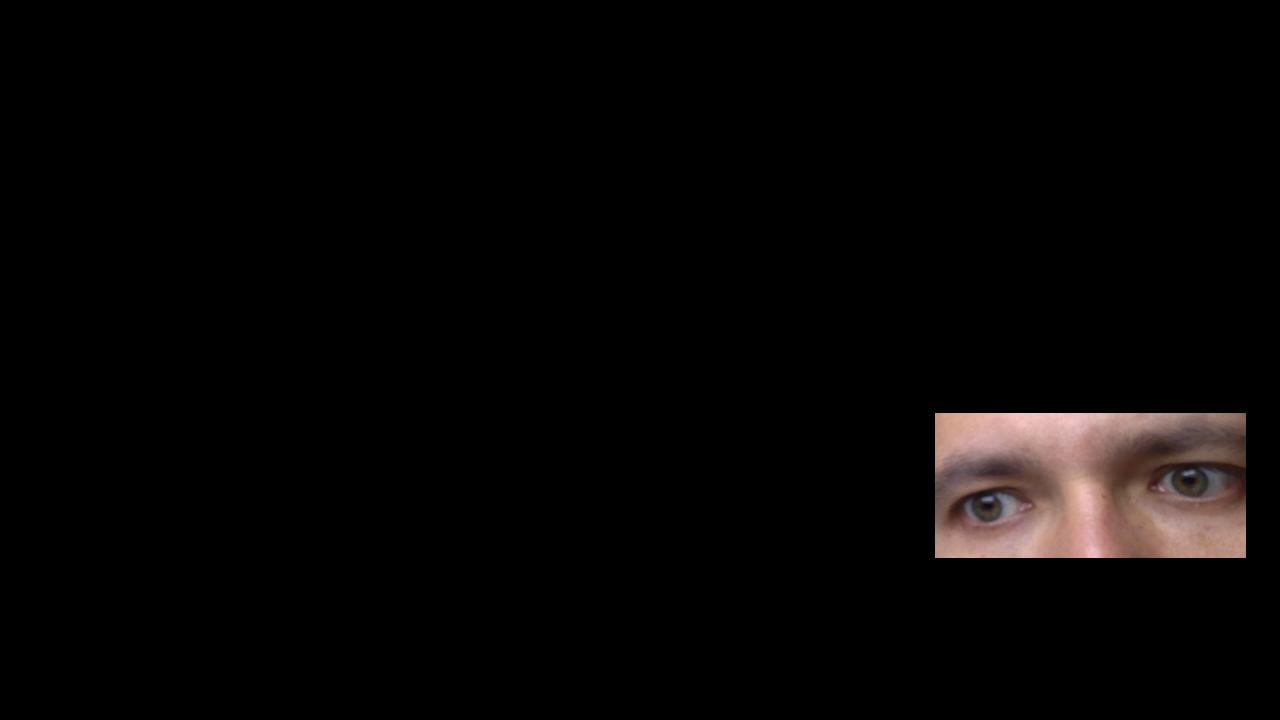eye: (1170, 467, 1211, 497), (974, 491, 1004, 520)
